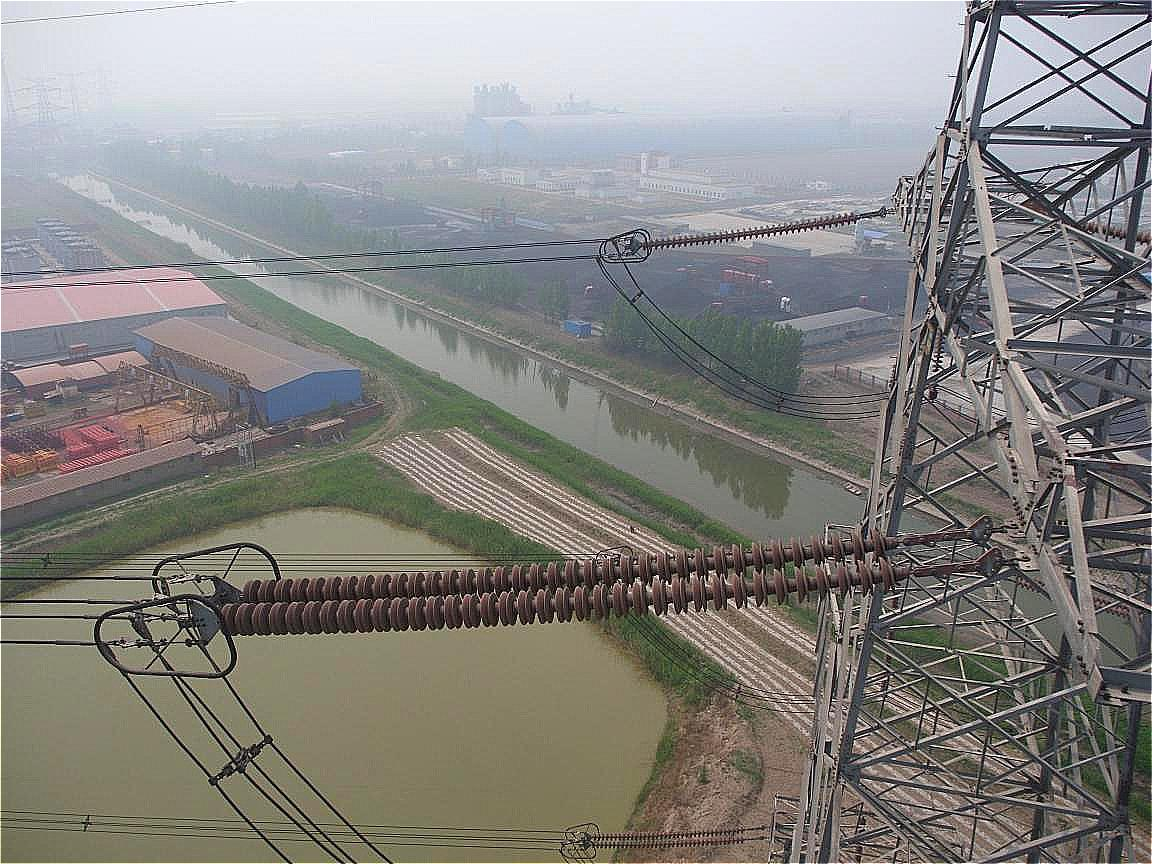insultor1: (613, 199, 872, 261)
insultor2: (186, 513, 917, 642)
